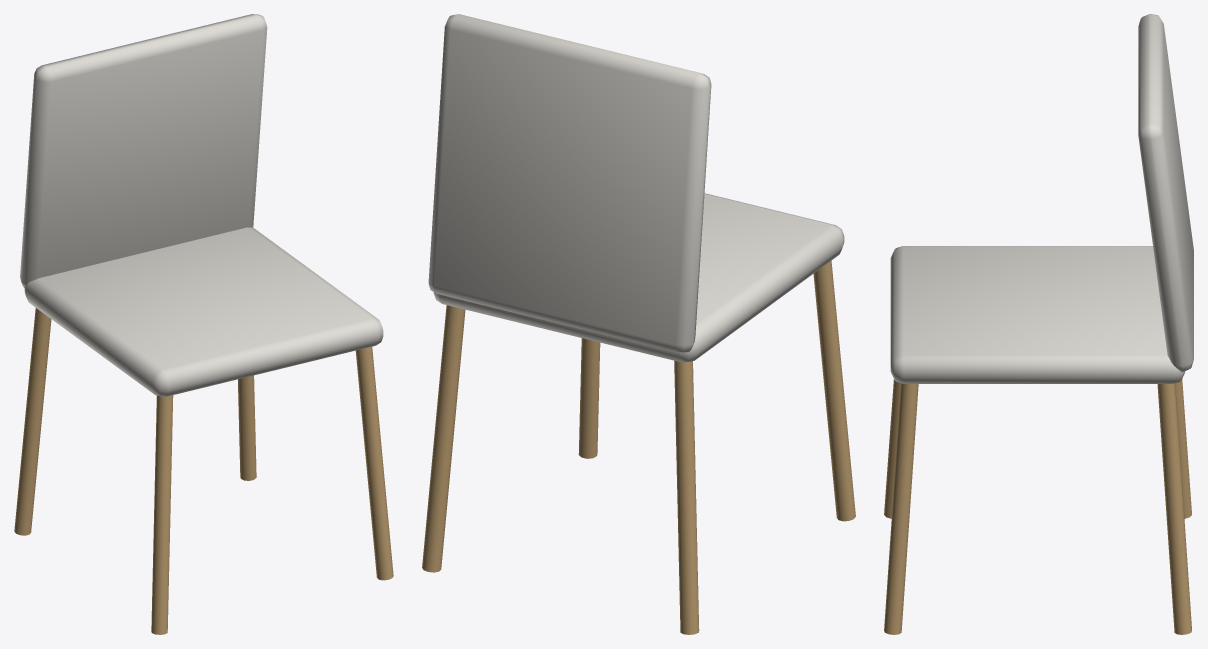
The model's file is i_chair_4.glb.
3 renders of one model, left to right at view 1: azimuth 30°, elevation 25°; view 2: azimuth 150°, elevation 25°; view 3: azimuth 270°, elevation 25°, orthographic. The views are drawn at different scales.
Parts seen in each view (by area): view 1: o.005, o.004, o.002, o, o.001, o.003; view 2: o.005, o.004, o.003, o.001, o, o.002; view 3: o.004, o.005, o.002, o.003, o, o.001.
Boxes of the visible parts, x1=… form: o.005: x1=20, y1=14, x2=267, y2=287; o.004: x1=24, y1=227, x2=383, y2=396; o.002: x1=355, y1=346, x2=393, y2=580; o: x1=151, y1=395, x2=173, y2=634; o.001: x1=14, y1=308, x2=51, y2=535; o.003: x1=238, y1=375, x2=256, y2=480; o.005: x1=428, y1=14, x2=711, y2=353; o.004: x1=433, y1=193, x2=844, y2=362; o.003: x1=422, y1=305, x2=465, y2=572; o.001: x1=674, y1=360, x2=699, y2=634; o: x1=813, y1=260, x2=855, y2=521; o.002: x1=578, y1=338, x2=600, y2=458; o.004: x1=890, y1=246, x2=1185, y2=383; o.005: x1=1138, y1=14, x2=1193, y2=371; o.002: x1=884, y1=383, x2=918, y2=634; o.003: x1=1157, y1=383, x2=1191, y2=634; o: x1=884, y1=379, x2=900, y2=518; o.001: x1=1175, y1=379, x2=1191, y2=518.
Size of the model in its own units: 0.4597 by 0.8699 by 0.484.
